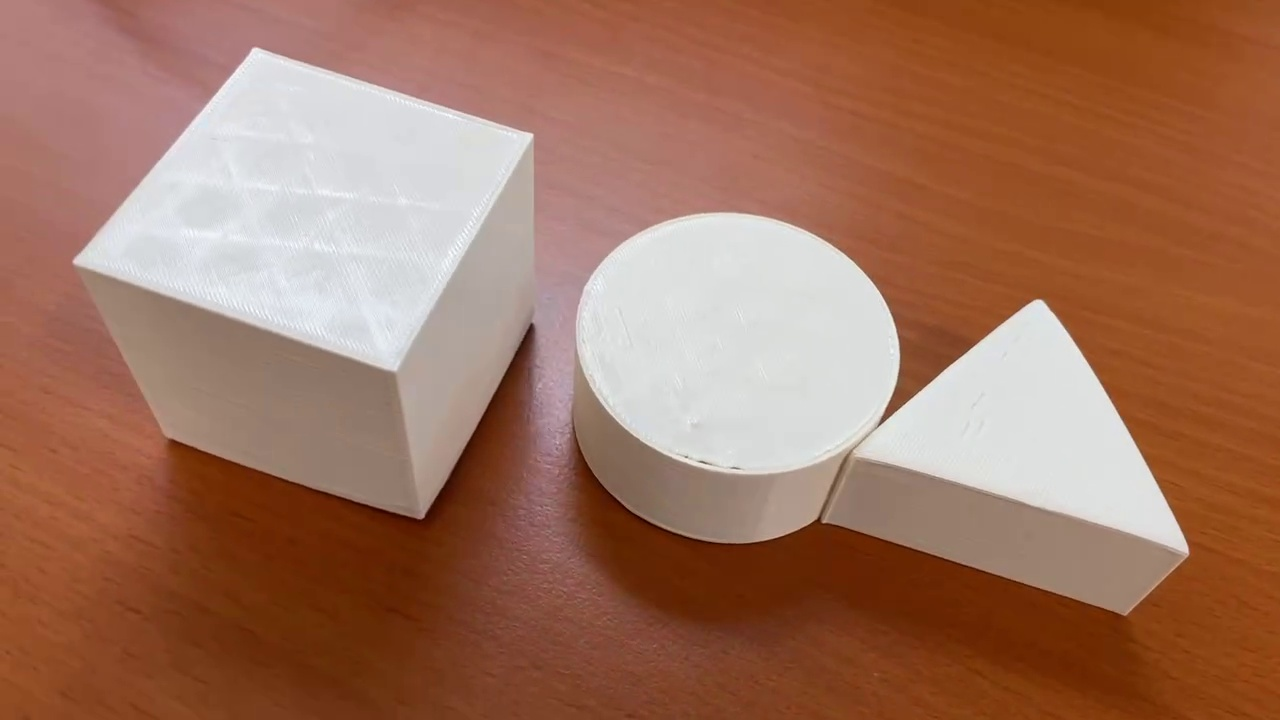Cube: (70, 44, 536, 522)
Cylinder_short: (571, 211, 899, 542)
Triangle_short: (824, 295, 1191, 618)
